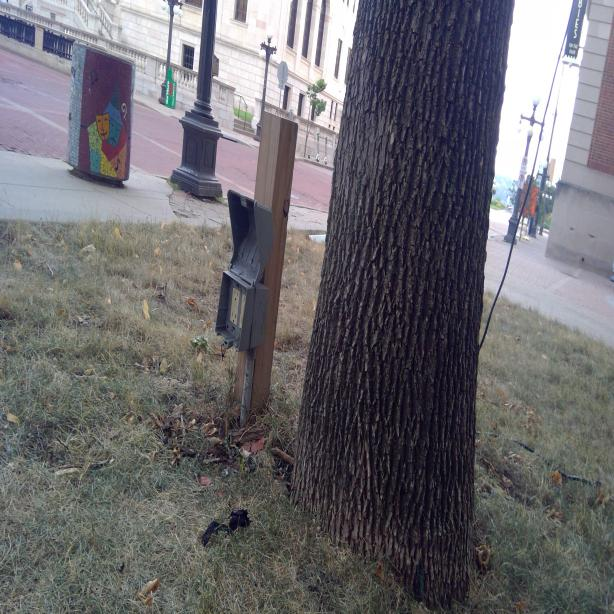typeb: (233, 287, 240, 306), (232, 309, 236, 325), (240, 316, 243, 324), (243, 297, 244, 310)
